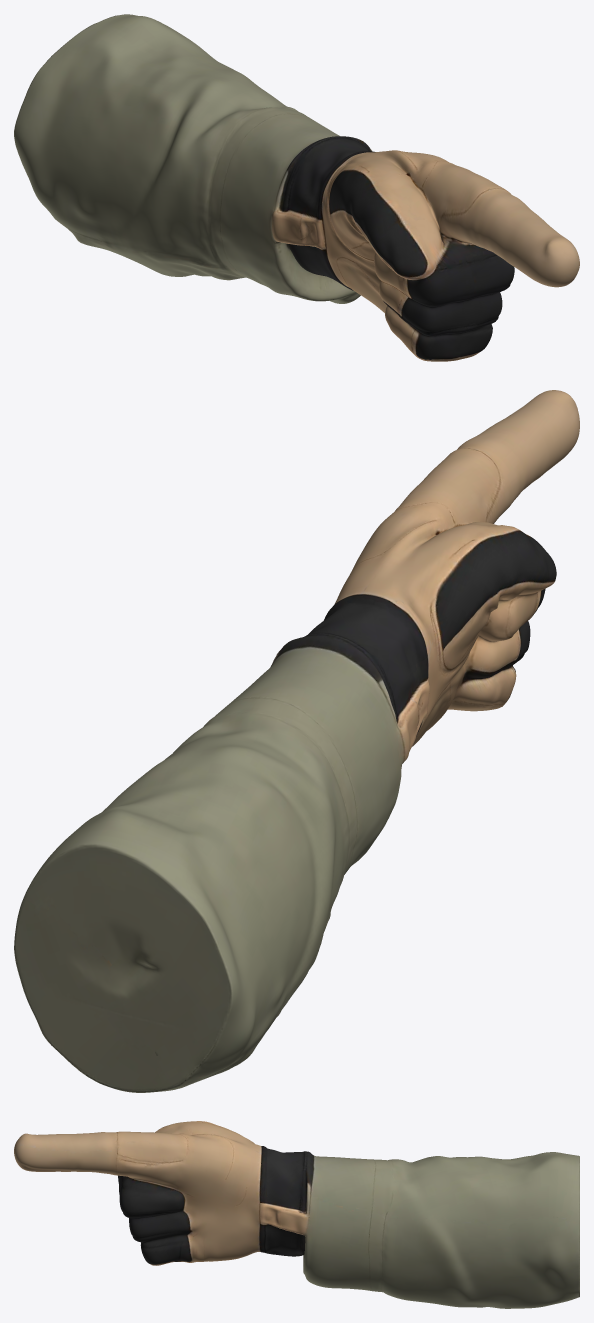
File: handR.glb
3 views of the same model, one above another, from view 1: azimuth 30°, elevation 25°; view 2: azimuth 150°, elevation 25°; view 3: azimuth 270°, elevation 25° (orthographic). The views are drawn at different scales.
Parts seen in each view (by area): view 1: model; view 2: model; view 3: model.
Boxes of the visible parts, x1,y1,x2,y2 form: model: (14, 14, 579, 361); model: (14, 390, 579, 1092); model: (14, 1121, 579, 1308).
Size of the model in its own units: 0.4898 by 0.6833 by 1.9.
Materials: 1 (1 with a texture image).
